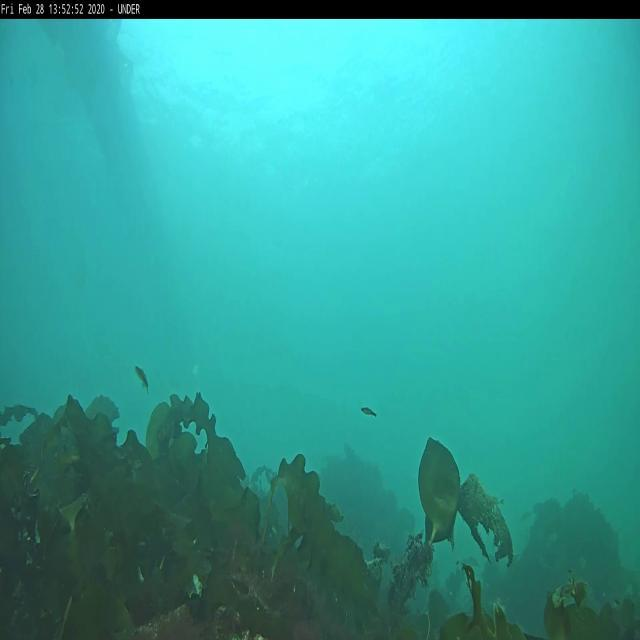fish: (133, 363, 151, 392), (362, 408, 378, 416)
